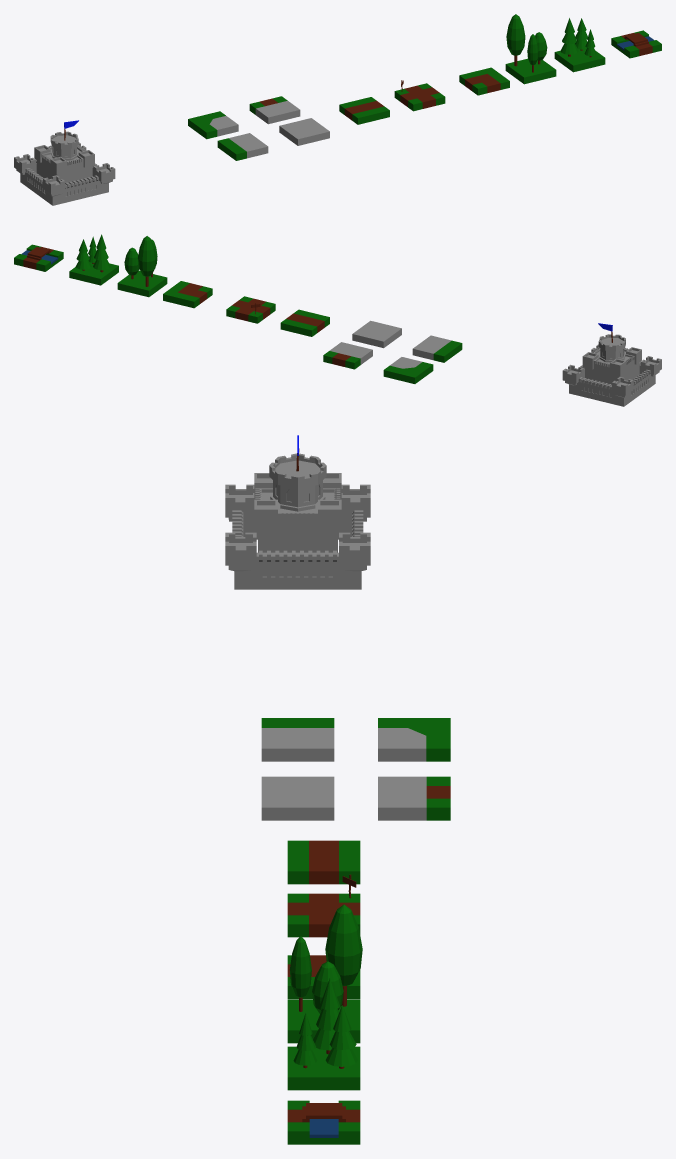
Rendered from TileSetAddition(Castle,road).FBX.
3 renders of one model, top to bottom at view 1: azimuth 30°, elevation 25°; view 2: azimuth 150°, elevation 25°; view 3: azimuth 270°, elevation 25°, orthographic. The views are drawn at different scales.
Visible parts, largest first — view 1: Box1040, TreeTile, TreeTile001, RoadQuad, Box1034, Box1022, Box1021, Box1033, RoadTransit, RoadCorner, Box1041; view 2: Box1040, TreeTile, TreeTile001, Box1021, Box1034, RoadQuad, Box1033, RoadCorner, Box1022, RoadTransit, Box1041; view 3: Box1040, TreeTile, TreeTile001, Box1033, Box1022, Box1034, RoadTransit, Box1041, Box1021, RoadQuad.
Part boxes in pixels (x1,y1,x2,y2): Box1040: [14, 120, 115, 205]; TreeTile: [505, 14, 556, 84]; TreeTile001: [554, 18, 605, 72]; RoadQuad: [394, 80, 445, 111]; Box1034: [217, 133, 268, 160]; Box1022: [249, 96, 300, 124]; Box1021: [188, 111, 238, 139]; Box1033: [279, 118, 329, 145]; RoadTransit: [339, 97, 389, 124]; RoadCorner: [459, 67, 509, 95]; Box1041: [611, 30, 661, 58]; Box1040: [562, 323, 661, 406]; TreeTile: [117, 236, 167, 297]; TreeTile001: [69, 234, 118, 285]; Box1021: [383, 357, 433, 383]; Box1034: [412, 335, 462, 362]; RoadQuad: [226, 296, 275, 323]; Box1033: [352, 320, 401, 348]; RoadCorner: [163, 281, 212, 308]; Box1022: [323, 342, 372, 369]; RoadTransit: [280, 309, 329, 336]; Box1041: [14, 244, 63, 271]; Box1040: [225, 435, 370, 589]; TreeTile: [287, 904, 362, 1043]; TreeTile001: [287, 978, 360, 1090]; Box1033: [261, 776, 334, 820]; Box1022: [378, 776, 450, 820]; Box1034: [261, 718, 334, 761]; RoadTransit: [287, 840, 360, 884]; Box1041: [287, 1100, 360, 1144]; Box1021: [378, 718, 450, 761]; RoadQuad: [287, 874, 360, 937].
Size of the model in its own units: 19516 by 2126 by 3103.
